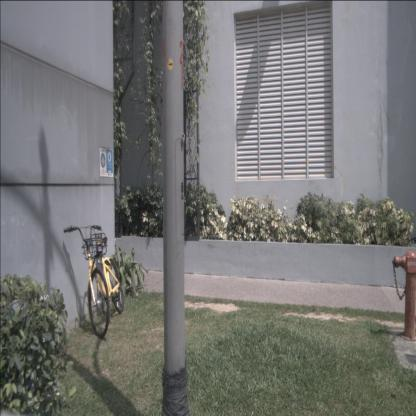vehicle-bicycle: (63, 225, 124, 338)
